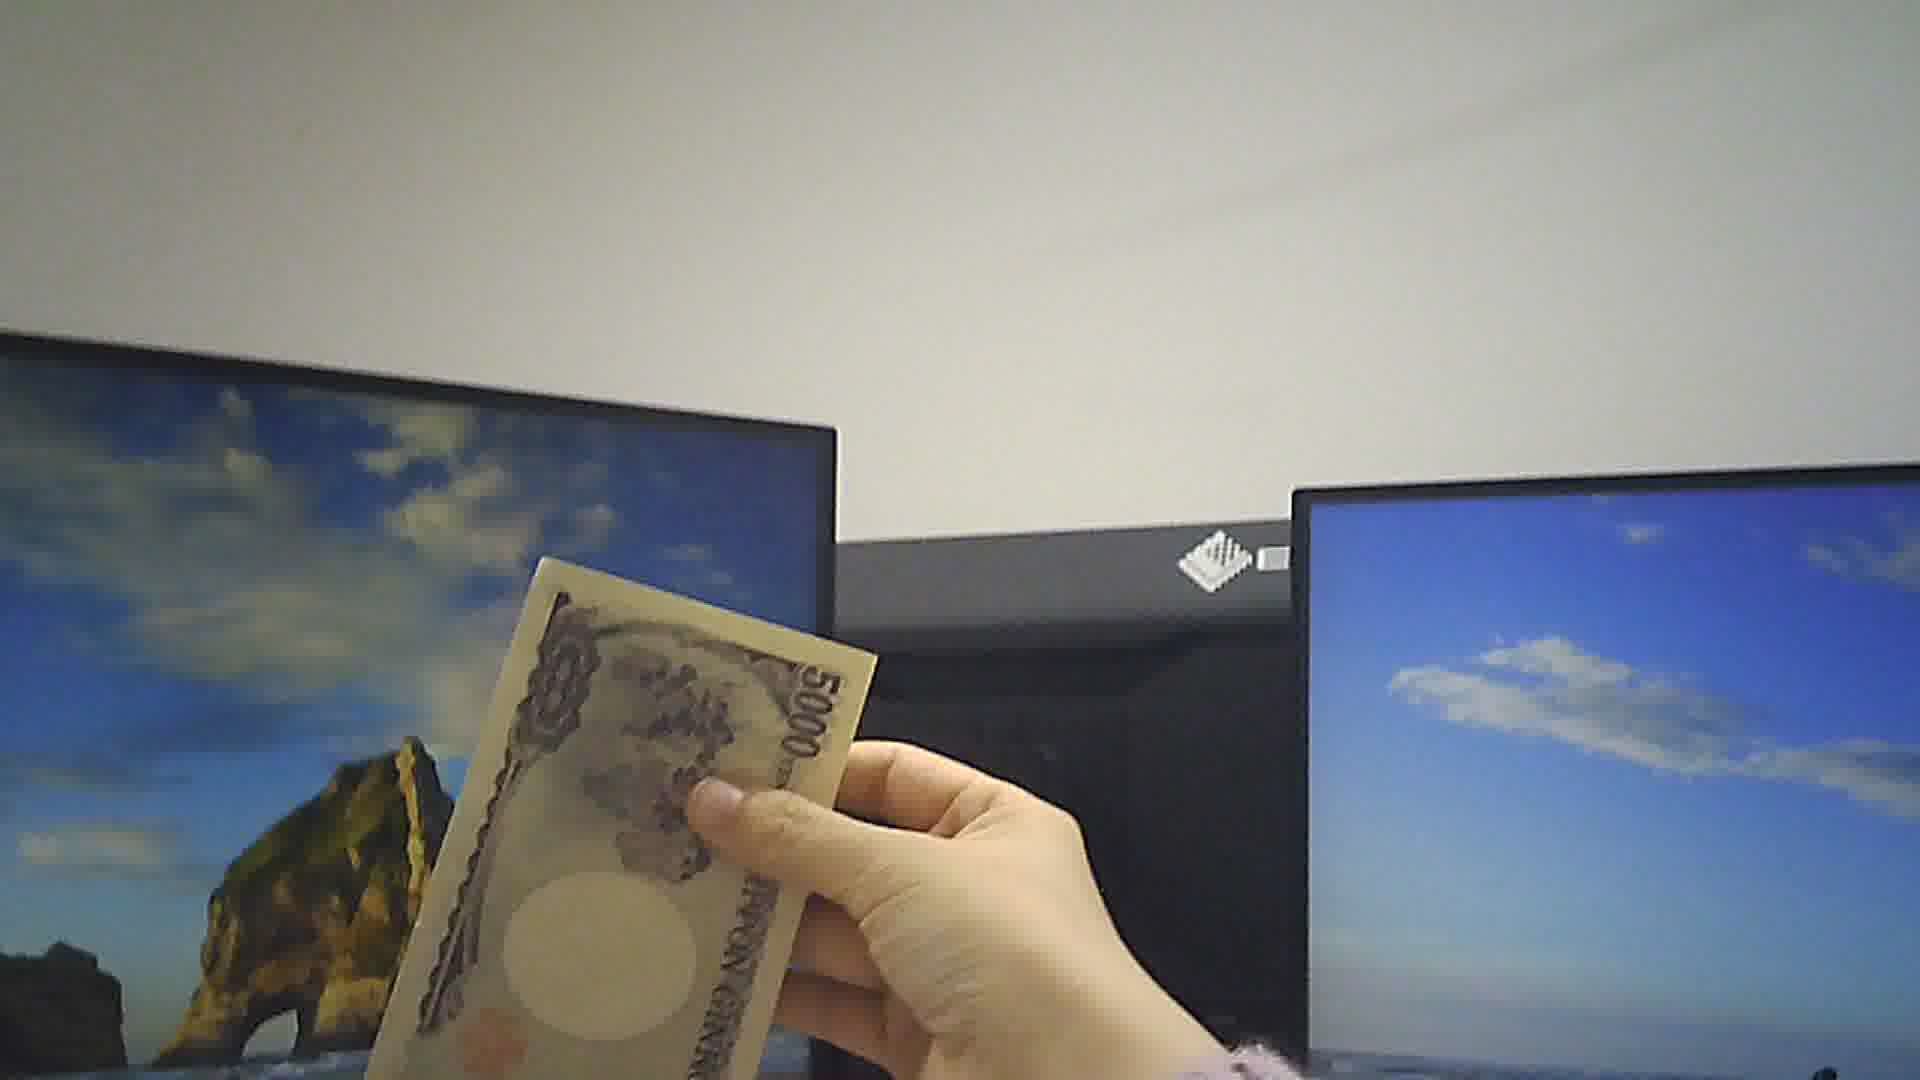5,000 Yen: (384, 550, 873, 1079)
